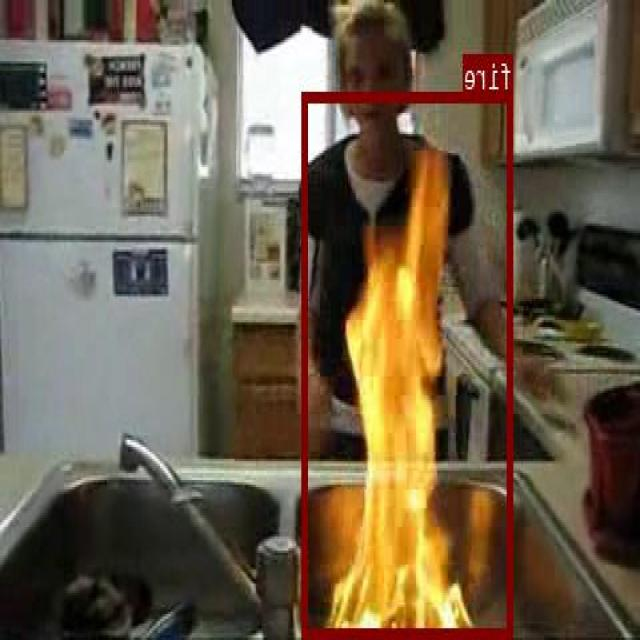fire: (304, 90, 513, 635)
